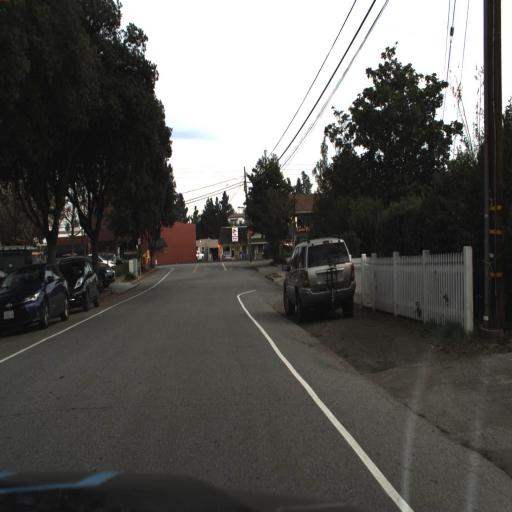car: (280, 236, 360, 319), (0, 267, 70, 331), (62, 254, 104, 310), (97, 258, 115, 289)
